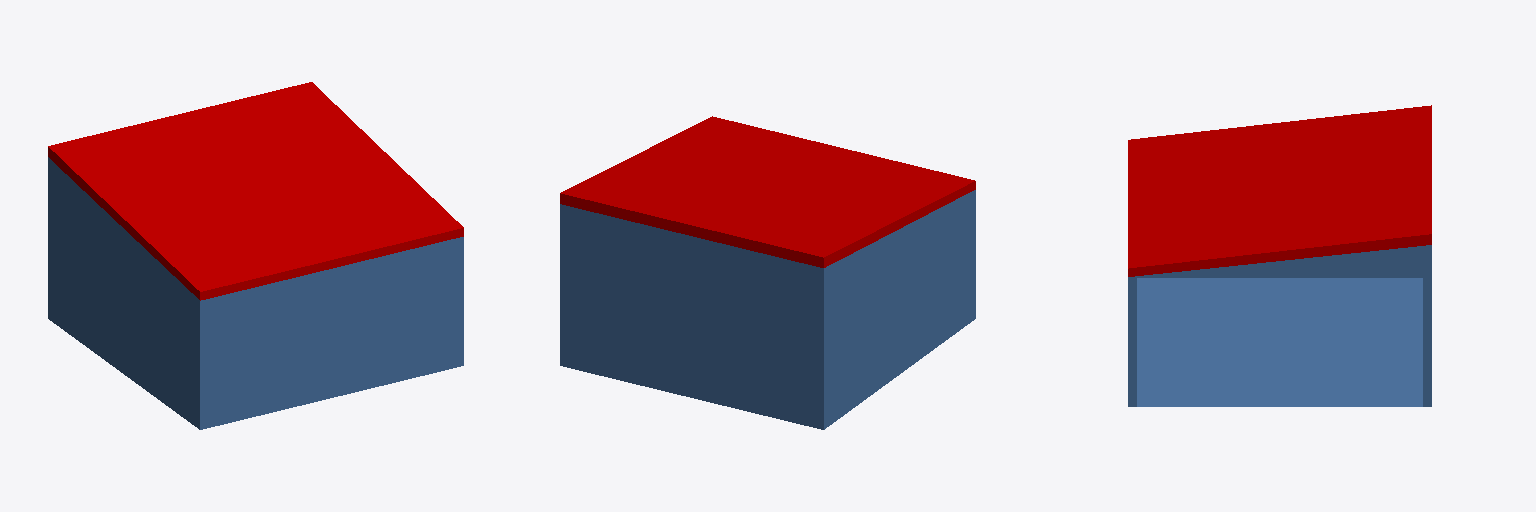
Rendered from kopitiam.obj.
The picture shows the model from 3 angles: view 1: azimuth 30°, elevation 25°; view 2: azimuth 150°, elevation 25°; view 3: azimuth 270°, elevation 25°; orthographic projection.
Visible parts, largest first — view 1: Cube; view 2: Cube; view 3: Cube.
Part boxes in pixels (x1,y1,x2,y2): Cube: (48,82,463,429); Cube: (560,116,975,429); Cube: (1128,105,1431,406).
Size of the model in its own units: 4 by 2.5 by 4.